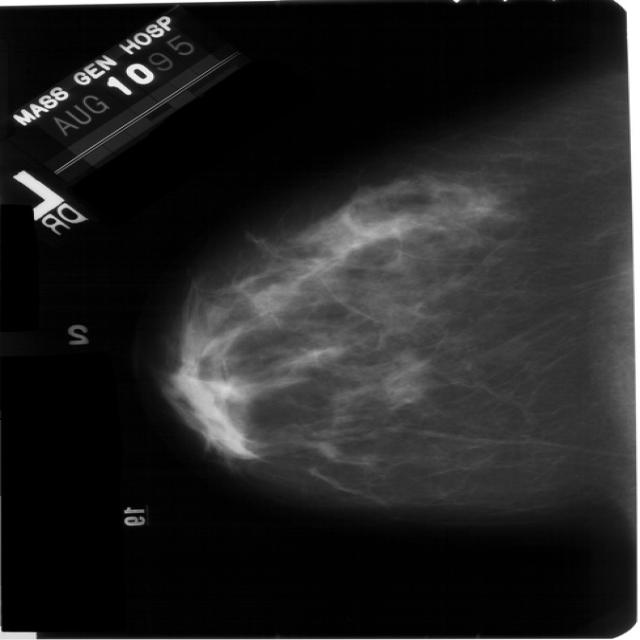tumour: (350, 184, 392, 220)
